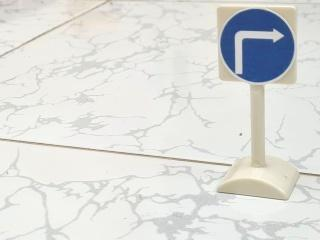right: (212, 3, 303, 89)
